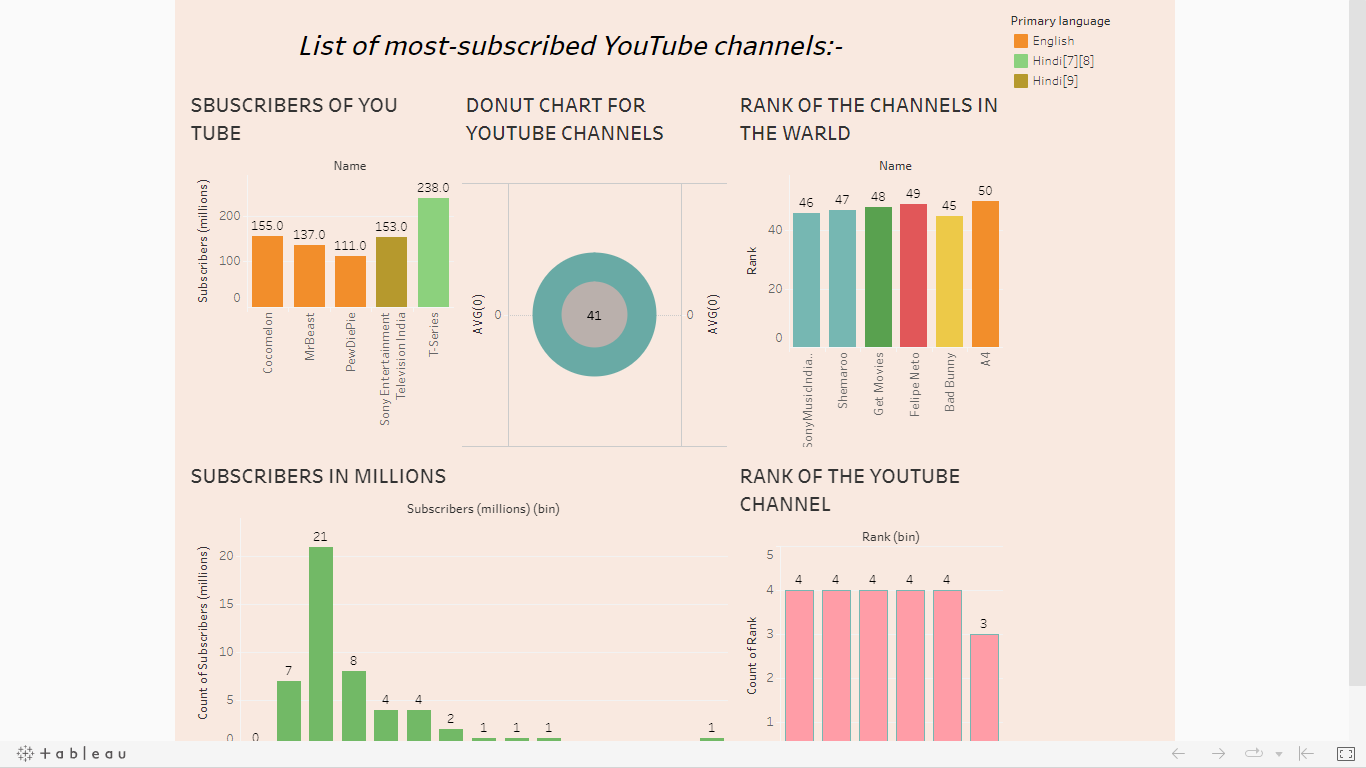

Layout of this report page (visuals, bound fields, positions):
{"tool":"tableau","page":{"name":"Dashboard 1","canvas":[1000,800],"ordinal":0},"visuals":[{"type":"text","box":[8,8,824,72]},{"type":"legend","title":"WARK SHEET 1","param":"[federated.1xakv5e189696o13af6ki1mq9e7z].[none:Primary language:nk]","box":[832,8,160,86]},{"type":"worksheet","title":"WARK SHEET 1","mark":"Automatic","rows":["Subscribers (millions)"],"cols":["Name"],"box":[8,80,274.7,371]},{"type":"worksheet","title":"WARK SHEET 3","mark":"Pie","rows":["Calculation_235876035574046779","Calculation_235876035573968953"],"box":[282.7,80,274.7,371]},{"type":"worksheet","title":"WARK SHEET 2","mark":"Automatic","rows":["Rank"],"cols":["Name"],"box":[557.3,80,274.7,371]},{"type":"worksheet","title":"WARK SHEET 4","mark":"Automatic","rows":["Subscribers (millions)"],"cols":["Subscribers (millions) (bin)"],"box":[8,451,549.3,341]},{"type":"worksheet","title":"WARK SHEET 5","mark":"Bar","rows":["Rank"],"cols":["Rank (bin)"],"box":[557.3,451,274.7,341]}]}

Visuals, with their boxes on the page's 1000x800 design canvas (x1, y1, x2, y2). These are canvas units, not pixel positions in the 1366x768 screenshot, which may show the page scaled, cropped or inside an application window:
text: {"left": 8, "top": 8, "right": 832, "bottom": 80}
"WARK SHEET 1" legend: {"left": 832, "top": 8, "right": 992, "bottom": 94}
"WARK SHEET 1" worksheet: {"left": 8, "top": 80, "right": 283, "bottom": 451}
"WARK SHEET 3" worksheet (Pie marks): {"left": 283, "top": 80, "right": 557, "bottom": 451}
"WARK SHEET 2" worksheet: {"left": 557, "top": 80, "right": 832, "bottom": 451}
"WARK SHEET 4" worksheet: {"left": 8, "top": 451, "right": 557, "bottom": 792}
"WARK SHEET 5" worksheet (Bar marks): {"left": 557, "top": 451, "right": 832, "bottom": 792}
